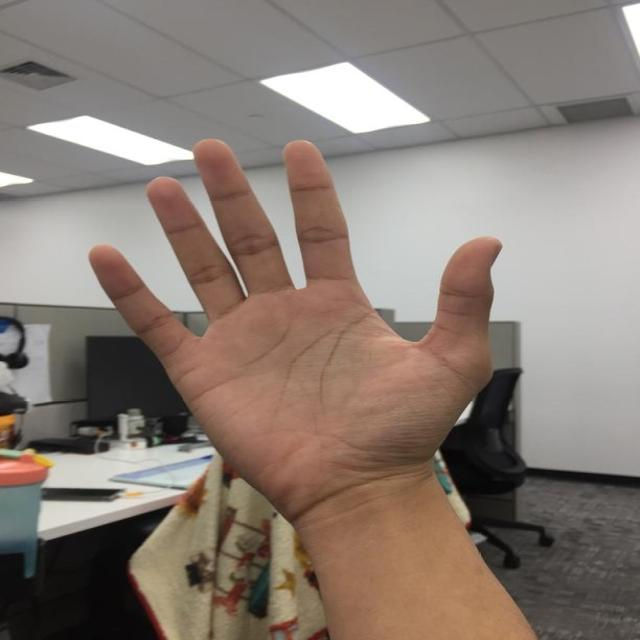no-gloves: (86, 135, 505, 501)
